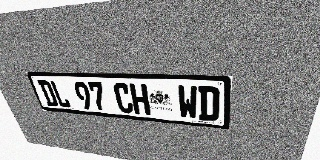7: (87, 82, 109, 111)
9: (72, 81, 95, 110)
C: (112, 83, 134, 114)
D: (198, 86, 220, 122), (37, 80, 59, 107)
H: (129, 83, 151, 115)
L: (49, 80, 72, 108)
W: (177, 85, 198, 120)
